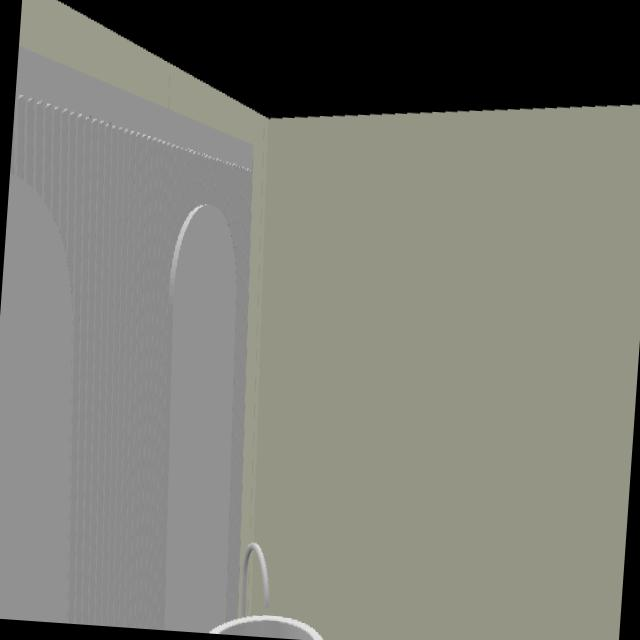washbasin: (208, 614, 324, 640)
